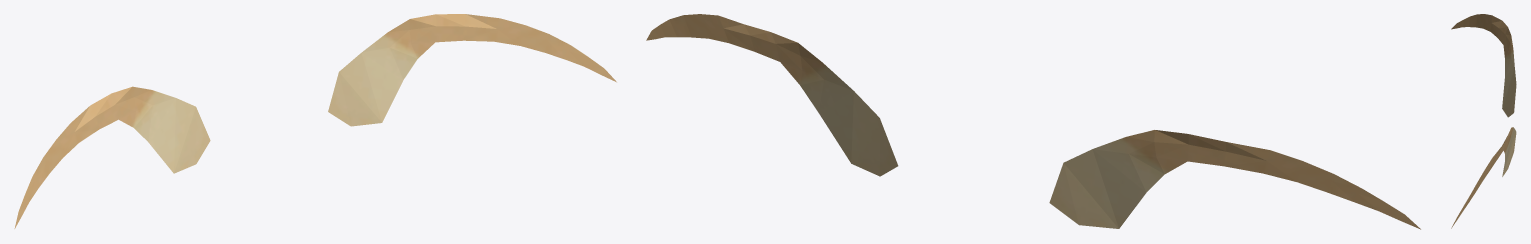
Rendered from source0IOC.obj.
3 views of the same model, side by side, from view 1: azimuth 30°, elevation 25°; view 2: azimuth 150°, elevation 25°; view 3: azimuth 270°, elevation 25° (orthographic). The views are drawn at different scales.
Parts seen in each view (by area): view 1: source0IOC; view 2: source0IOC; view 3: source0IOC.
Part boxes in pixels (x1,y1,x2,y2): source0IOC: (14, 14, 616, 228); source0IOC: (646, 14, 1420, 229); source0IOC: (1451, 14, 1516, 228).
Size of the model in its own units: 12.75 by 1.85 by 1.77.
